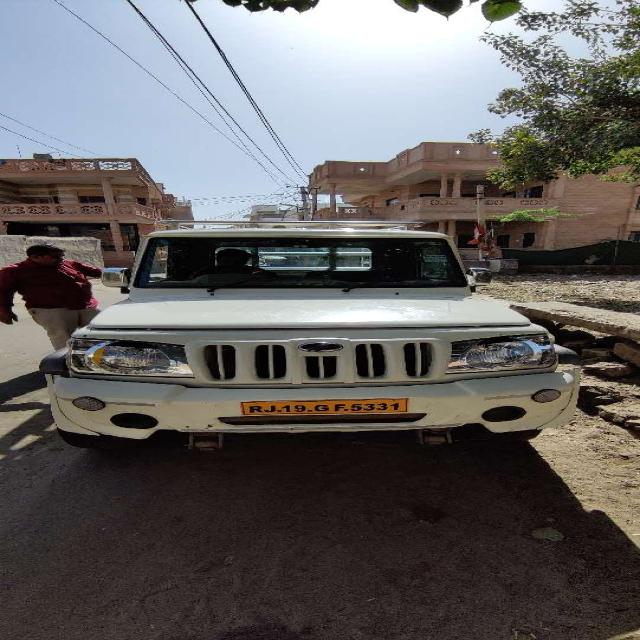light_vehicle: (52, 226, 573, 449)
